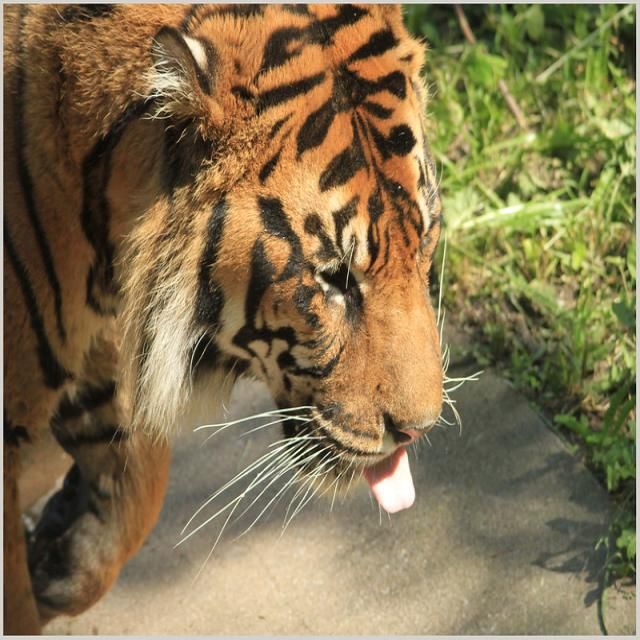Tiger: (3, 4, 456, 631)
